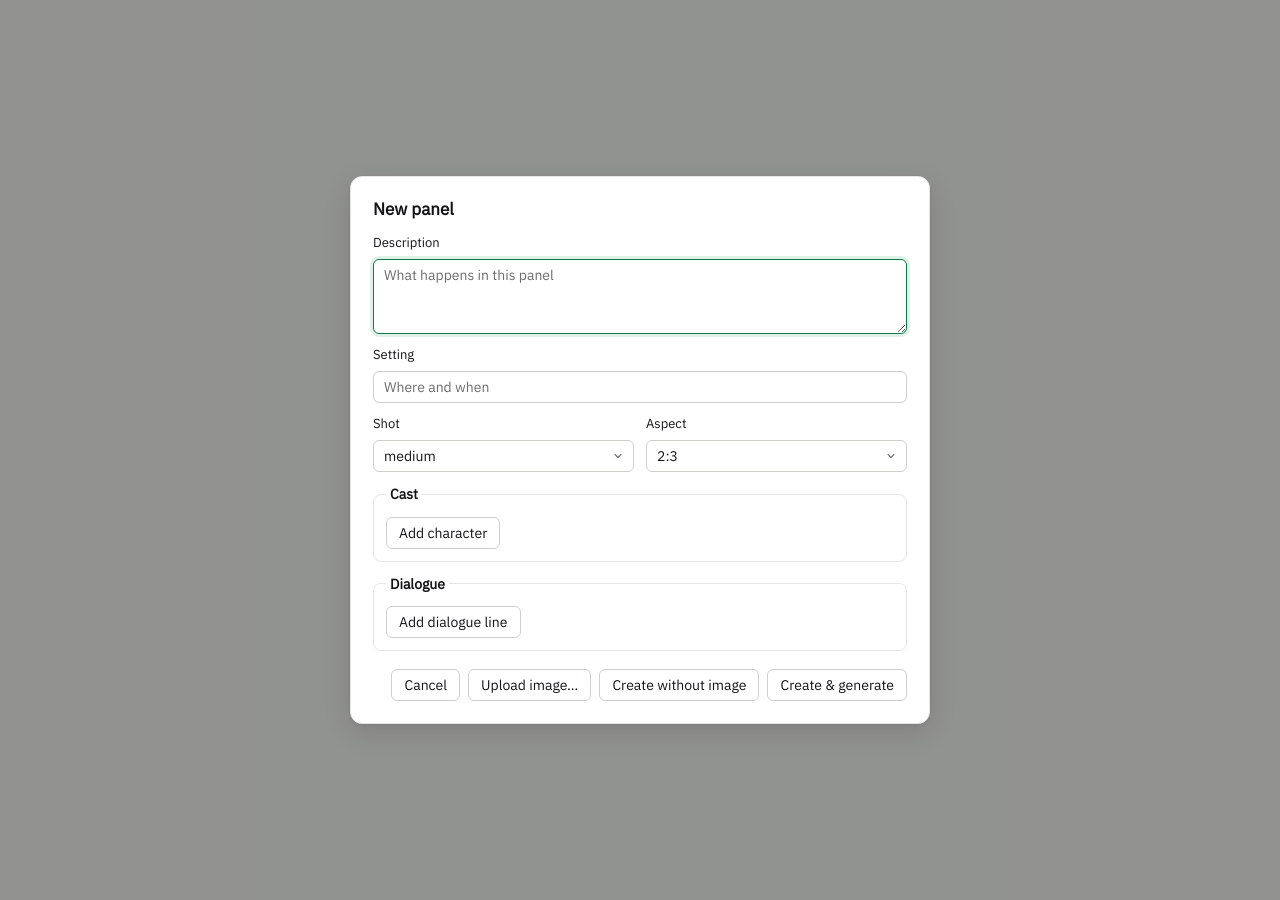
Test: PanelEditorDialog › cast picker lists only active characters and ready variations
The width and height of the screenshot is (1280, 900).
What coordinates should you click on to do the following:
click the button "Add character"
I would click on:
 (443, 533)
Its box is [386,517,500,549].
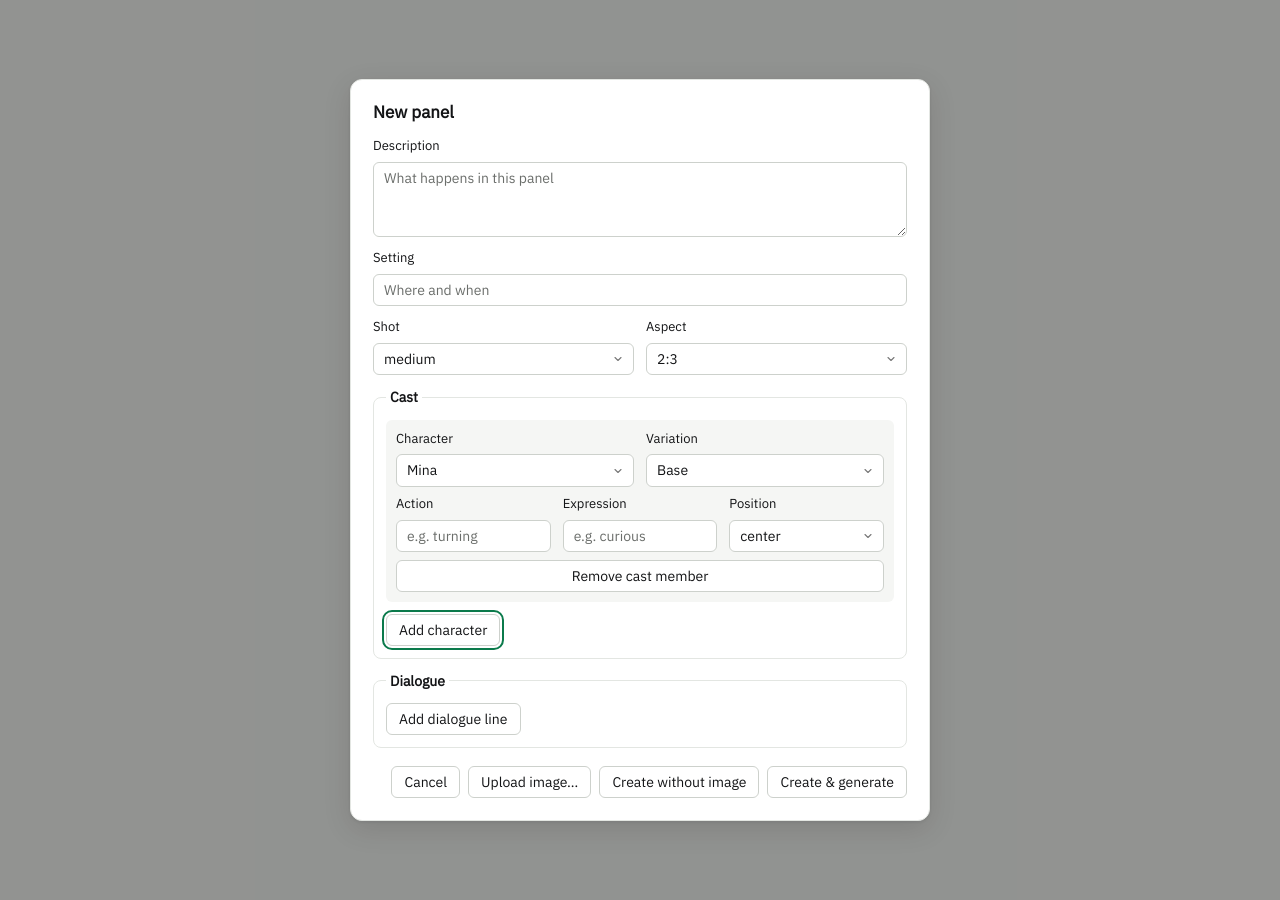
Now the dropdown labelled "Variation" shows "Base", box [646,454,884,487]
